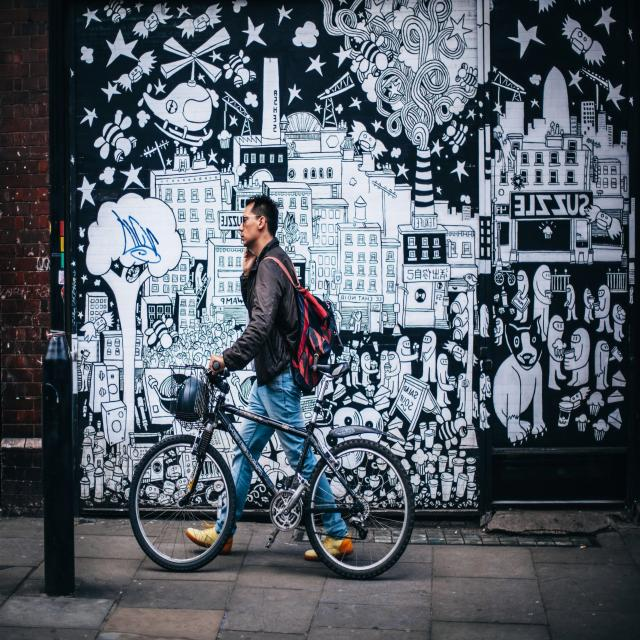adult: (187, 196, 365, 552)
